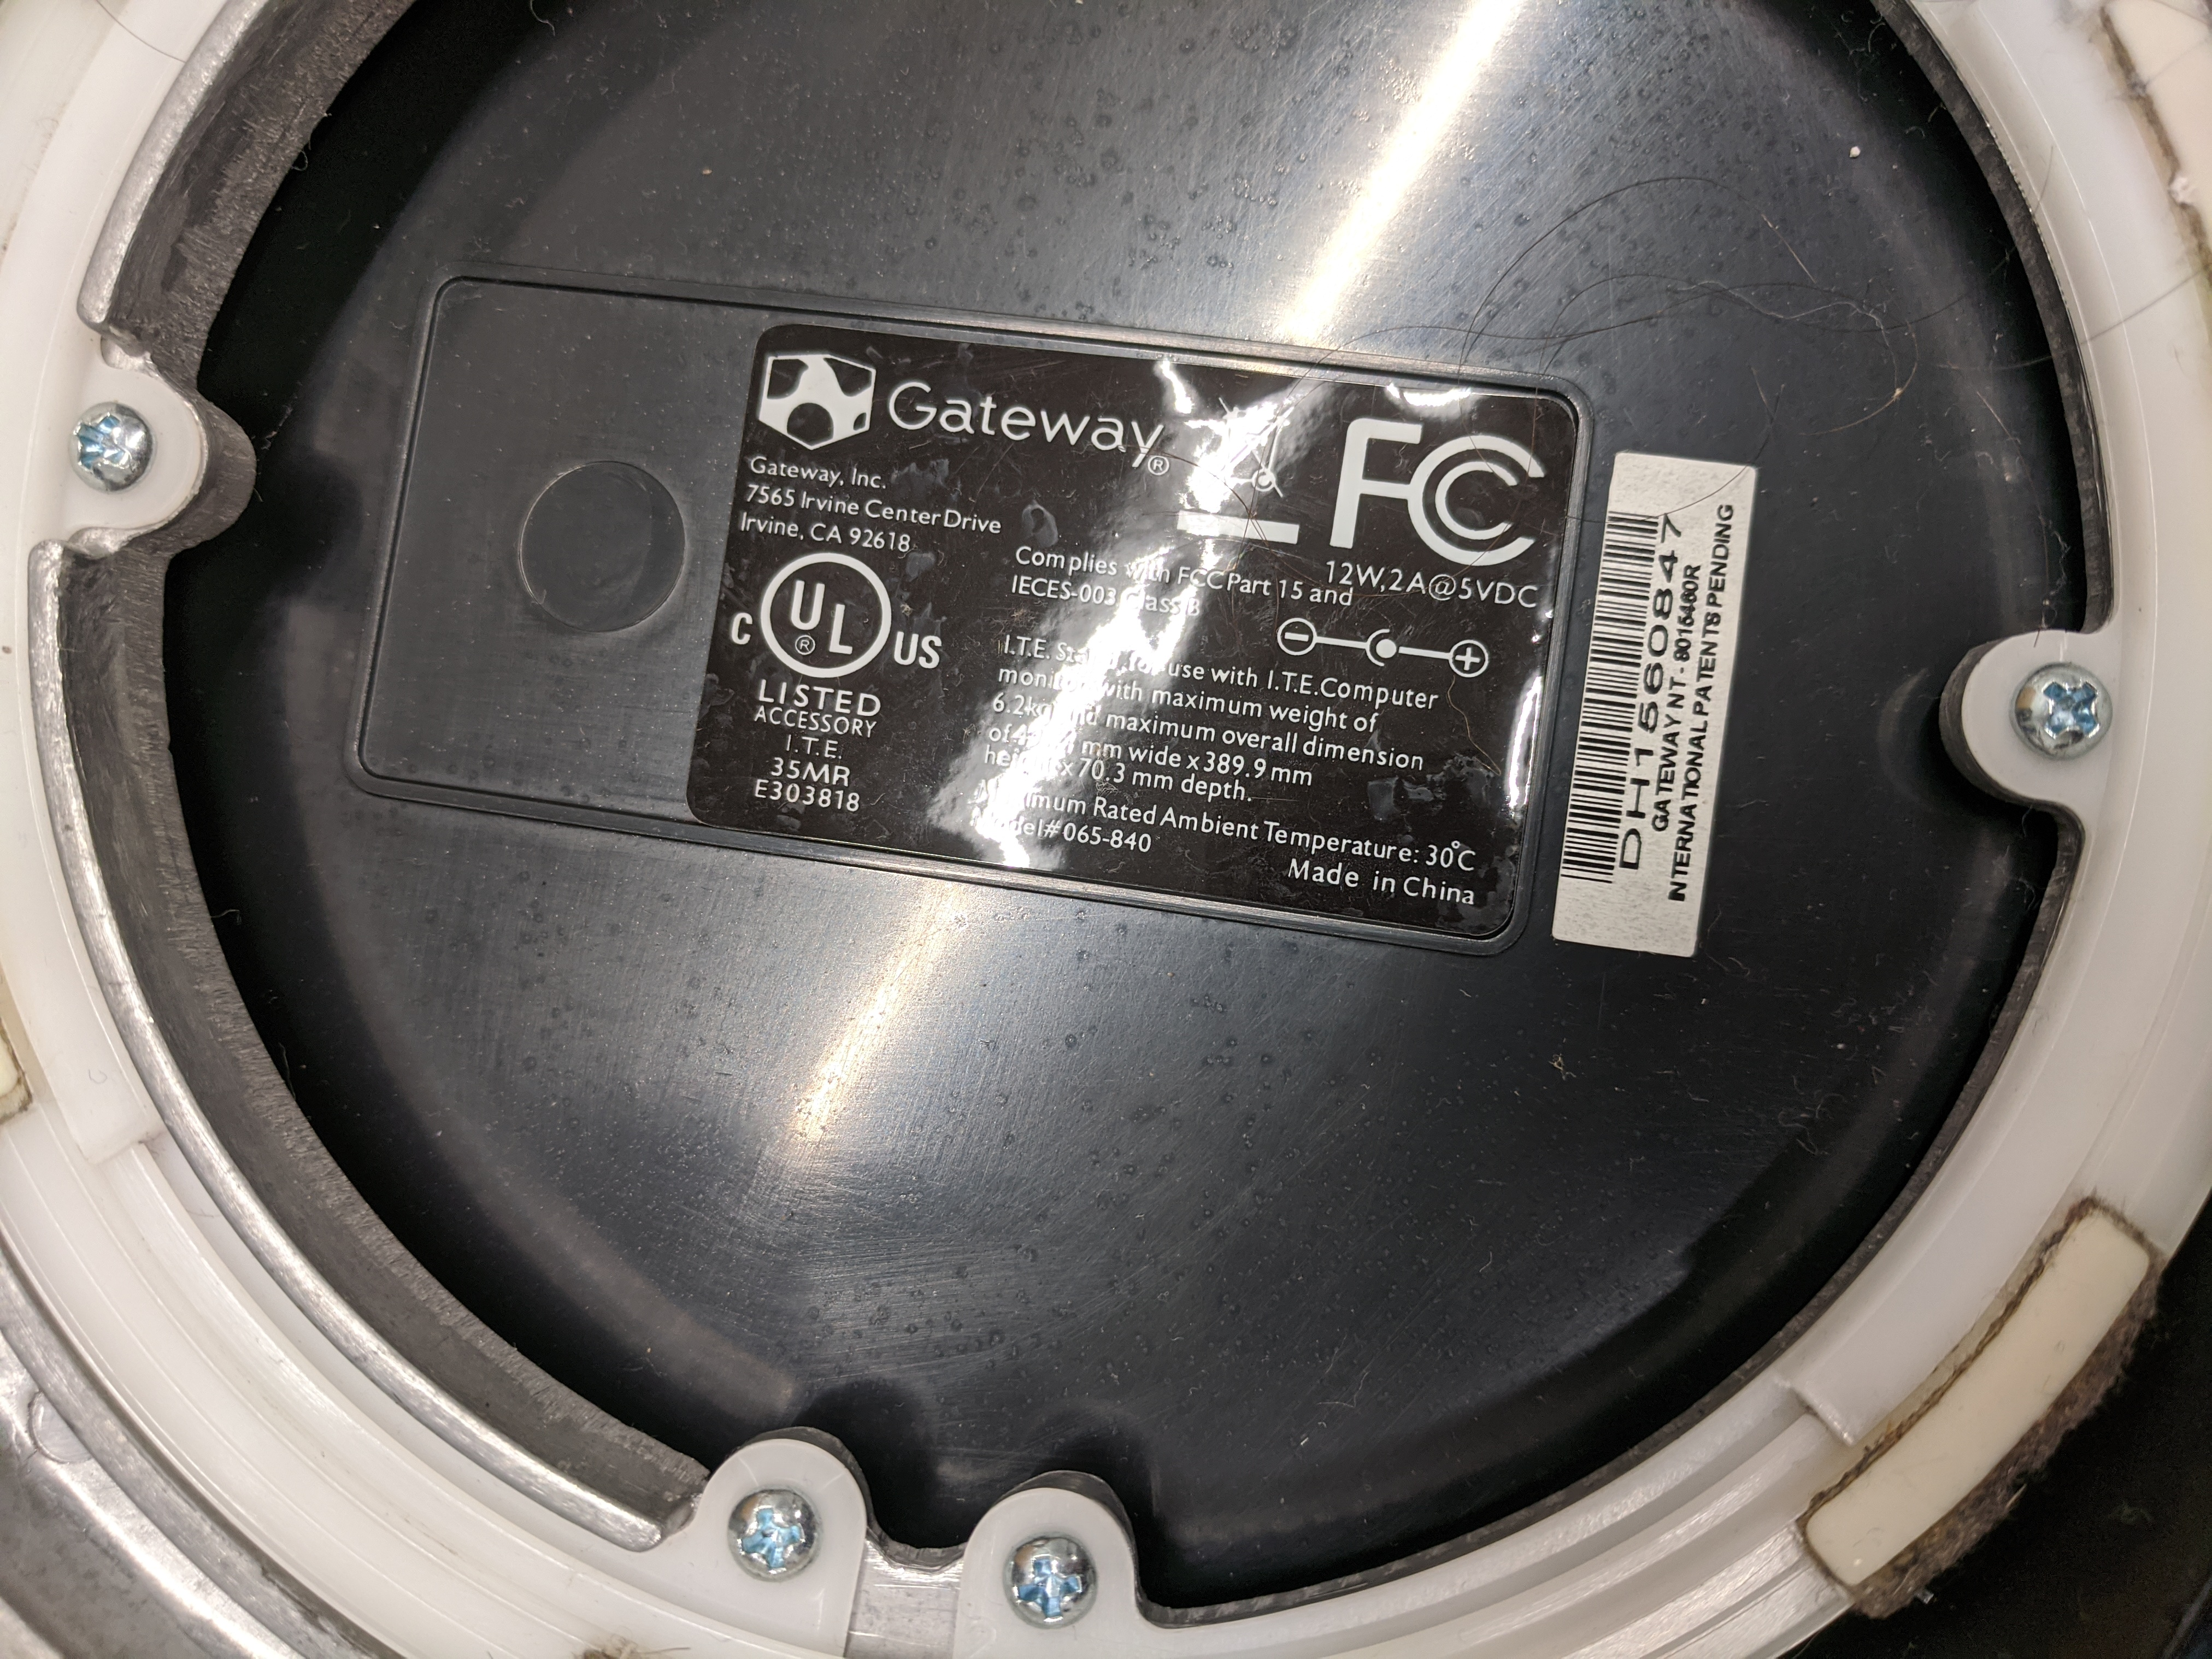cross_recessed_screw: (2019, 653, 2130, 772), (721, 1480, 831, 1586), (52, 387, 153, 491), (1008, 1530, 1101, 1631)
